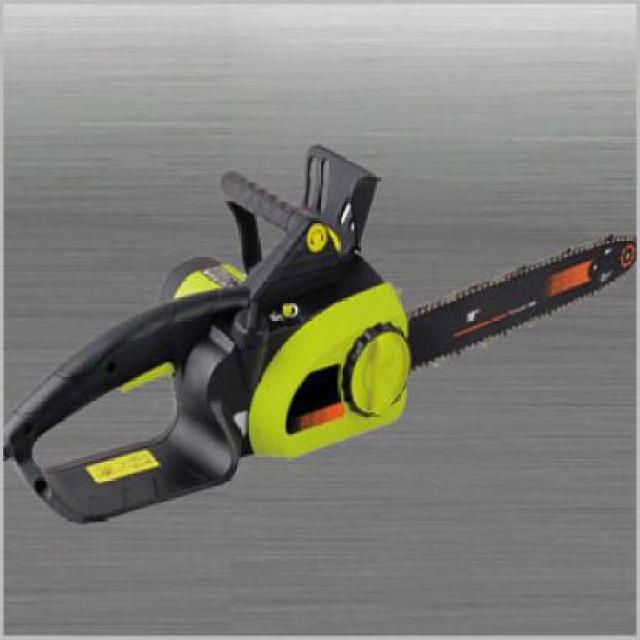Chainsaw: (3, 137, 635, 526)
